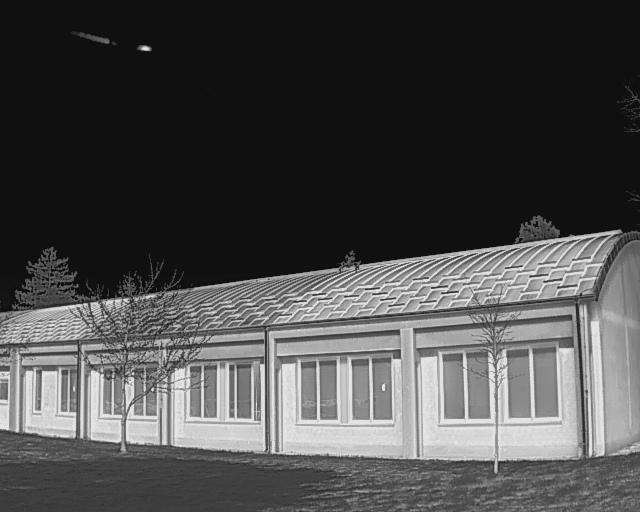drone: (330, 247, 368, 275)
